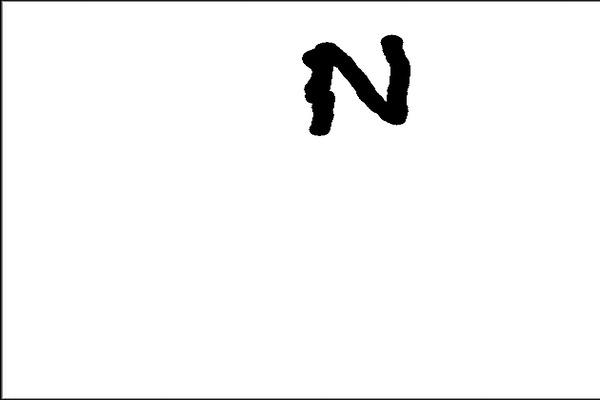N: (296, 28, 416, 141)
